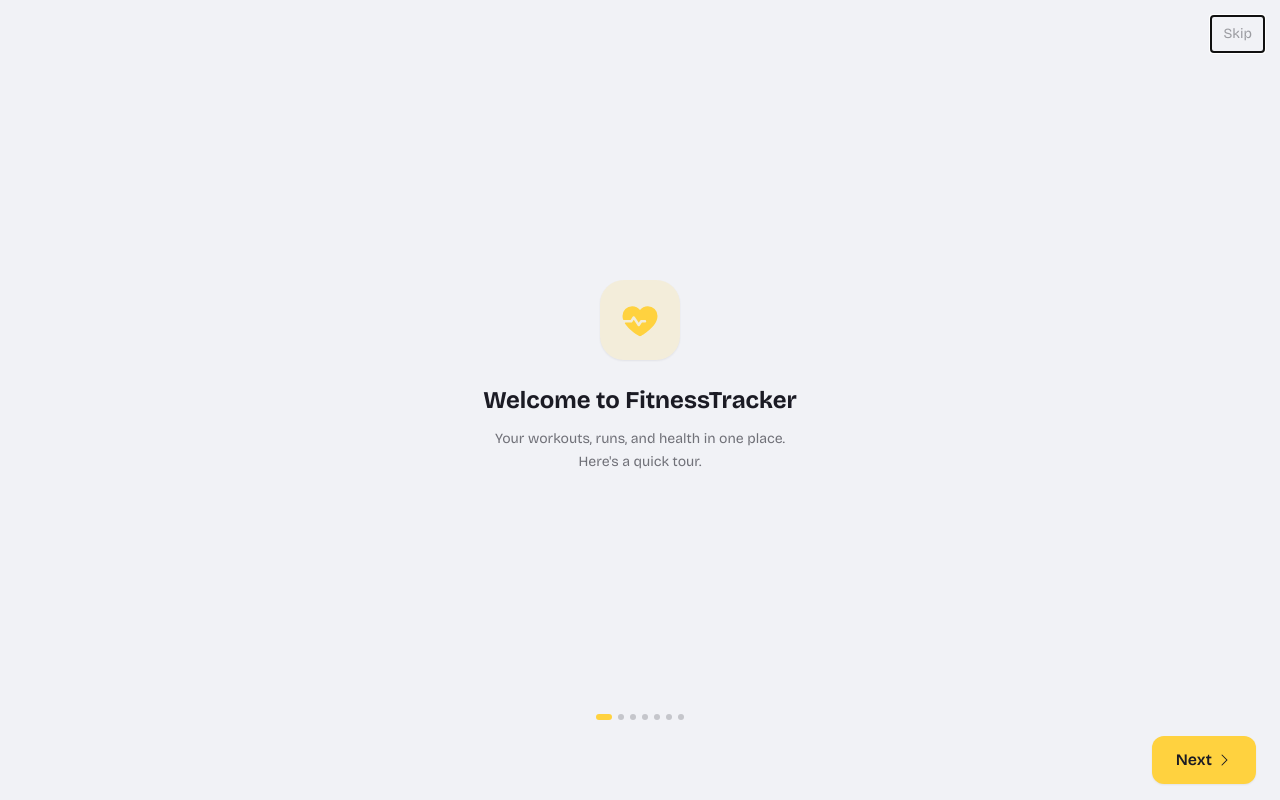
Onboarding › navigates via page dots
Click dot for step 3 (index 2)
Click the button named "Go to step" at point(633, 717), box [630,714,636,720]
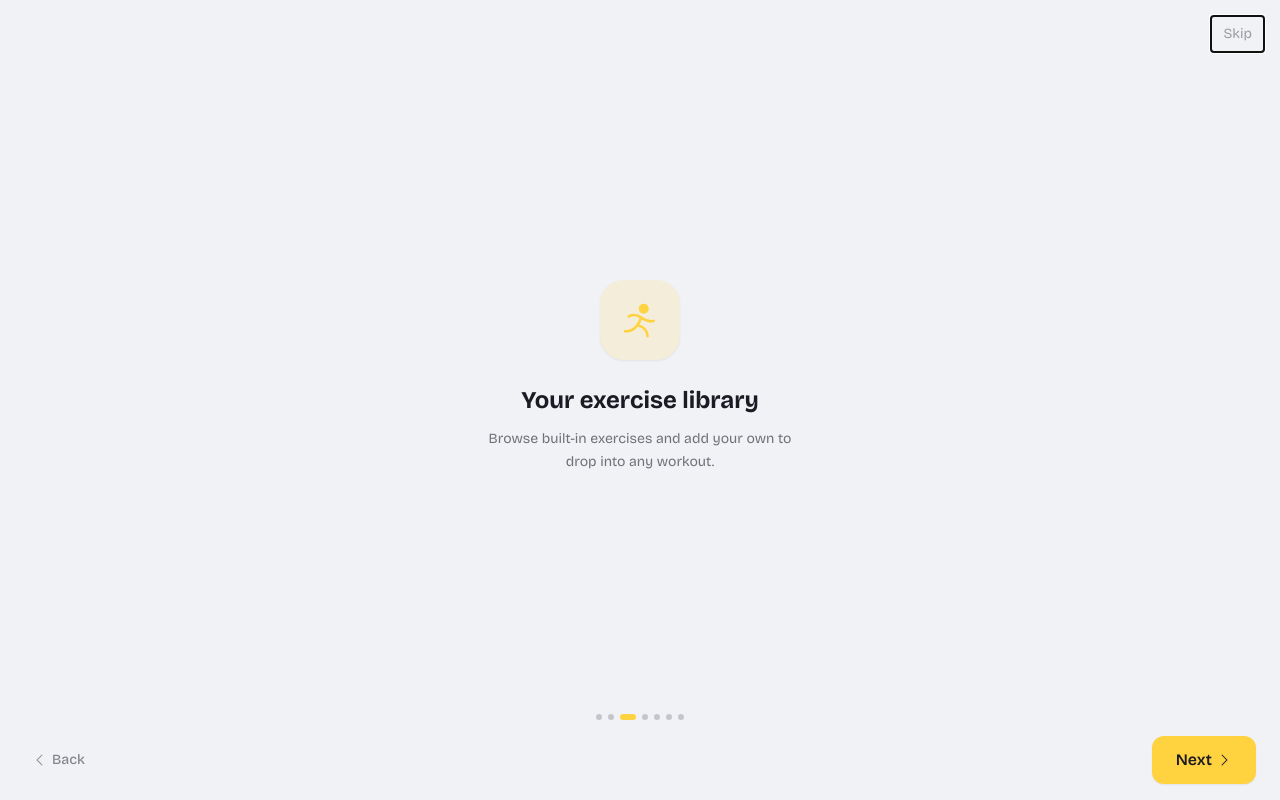
Expected: the heading "Your exercise library" is shown, [521,384,759,416]
